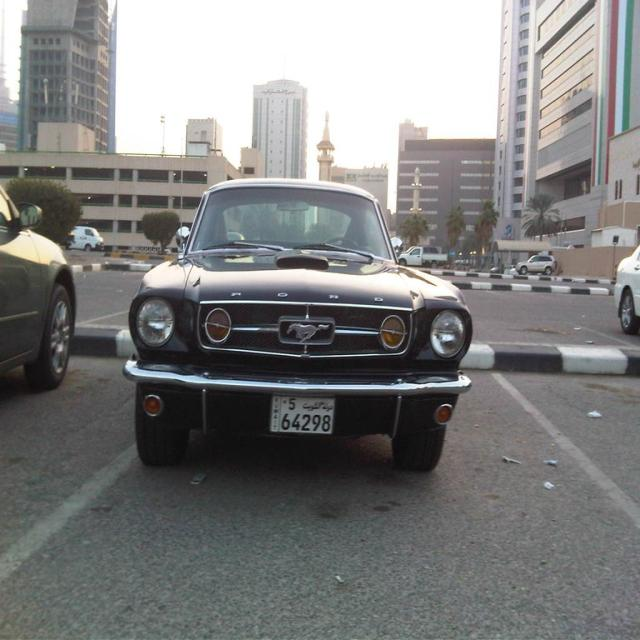car: (121, 178, 471, 472)
